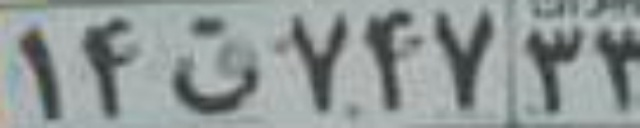1: (20, 27, 62, 118)
3: (519, 26, 582, 110), (594, 26, 638, 111)
4: (361, 9, 424, 110), (80, 18, 141, 116)
7: (433, 8, 499, 109), (287, 11, 352, 112)
ghaf: (167, 16, 262, 116)
